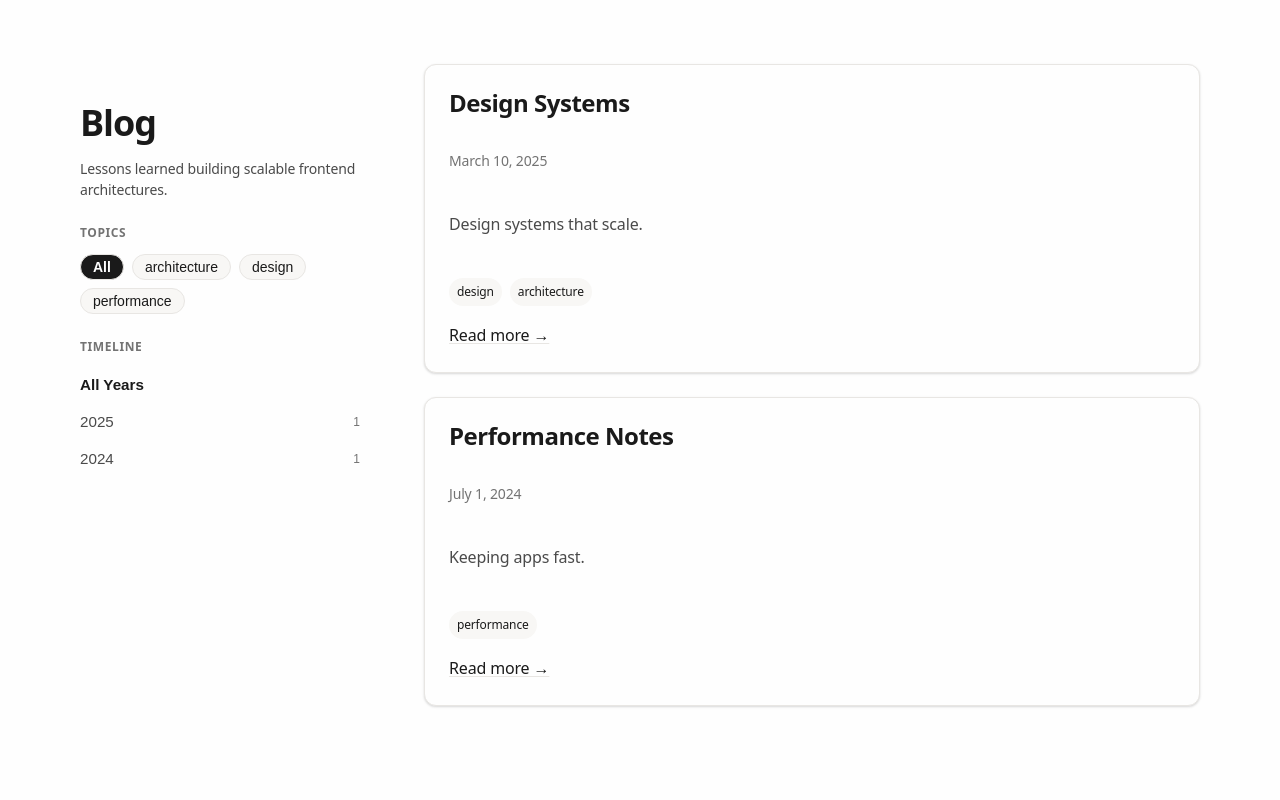
BlogIndexClient › filters posts by tag
Expected: the heading "Design Systems" is shown, [449, 86, 630, 119]
Expected: the heading "Performance Notes" is shown, [449, 419, 674, 452]
Click the button "design" at [273, 267], box [239, 254, 306, 280]
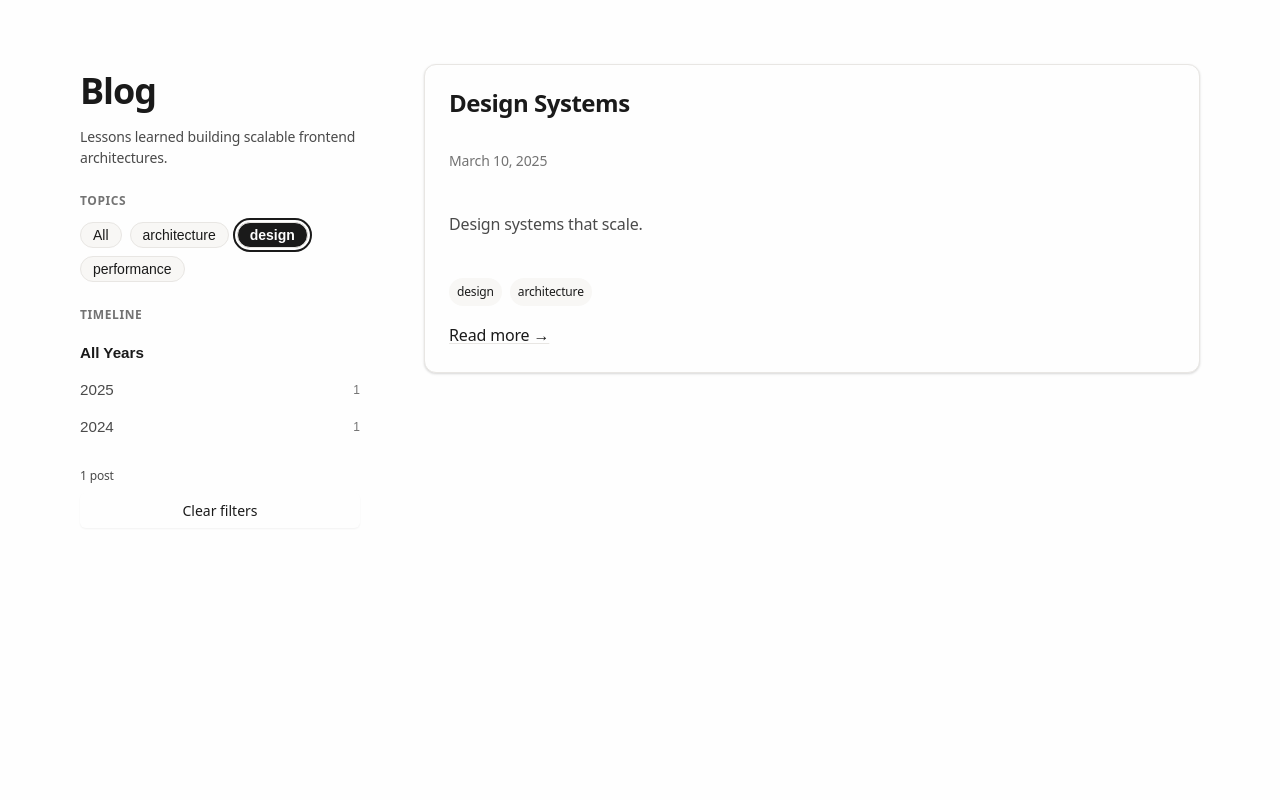
Expected: the heading "Design Systems" is shown, [449, 86, 630, 119]
Expected: the link "Performance Notes" is gone
